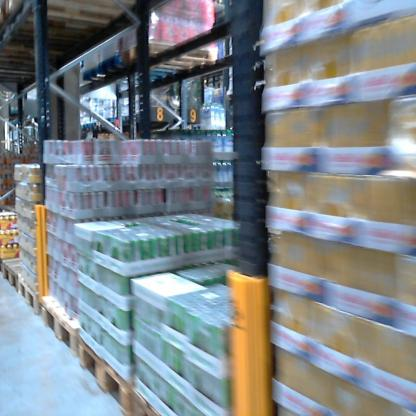pallet: (74, 326, 129, 416), (6, 2, 140, 33), (119, 39, 214, 77), (1, 20, 99, 55), (80, 59, 177, 89), (38, 293, 77, 366), (100, 49, 176, 83), (1, 255, 38, 296), (17, 272, 42, 320), (130, 383, 158, 414), (117, 113, 141, 121), (78, 122, 89, 133)
